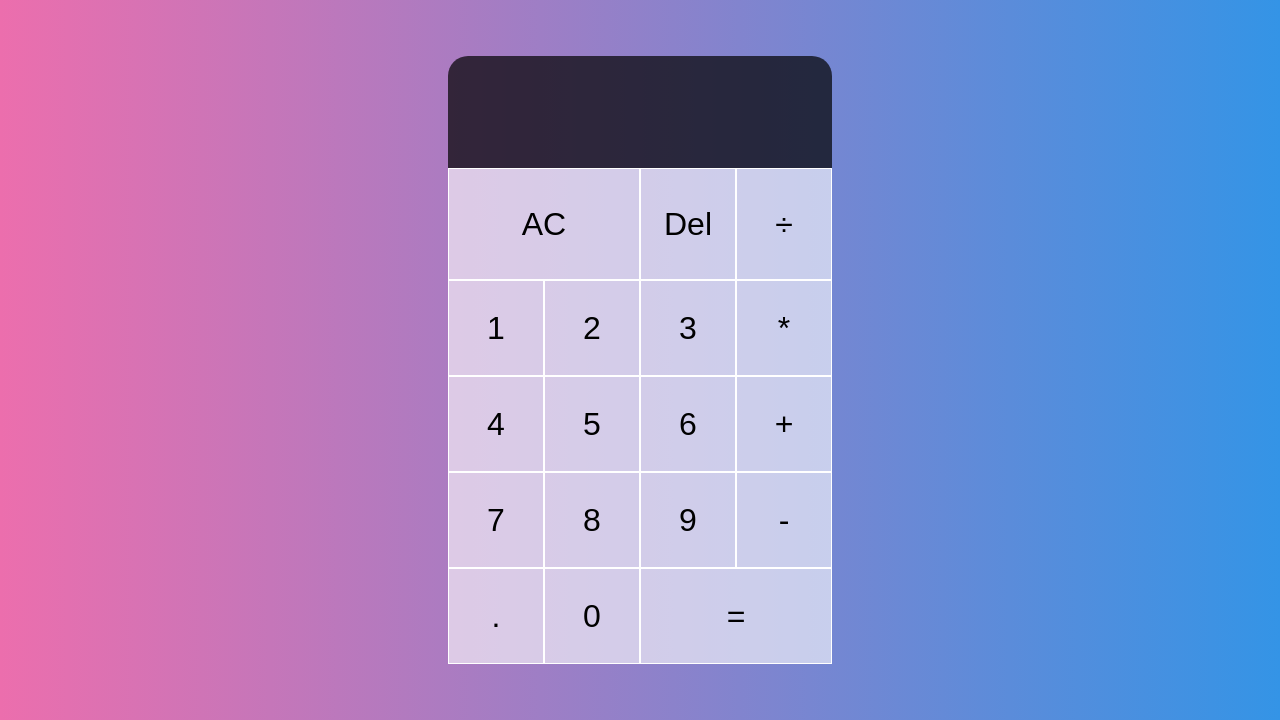
Test: When press › Digit Button › Print "0." when type "."
Click the button ".".
click(496, 616)  # box [448,568,544,664]
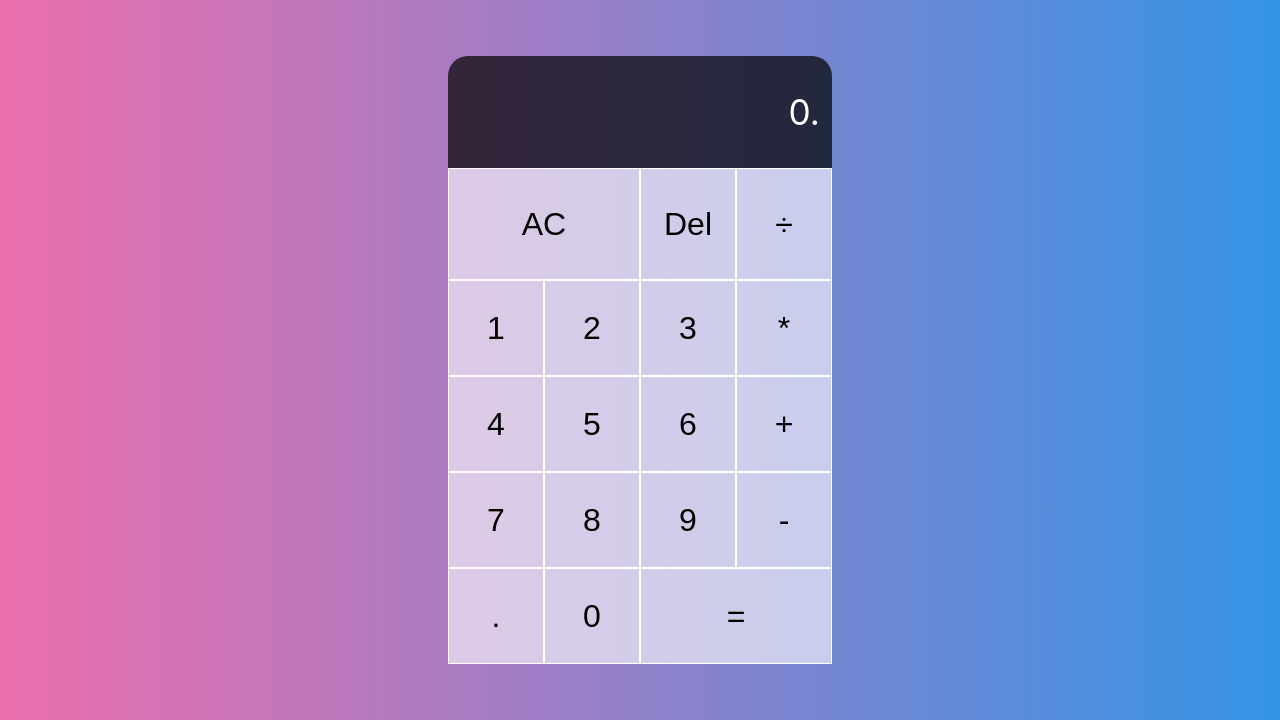
Expected: the text "0." is shown, [788,91,820,133]
